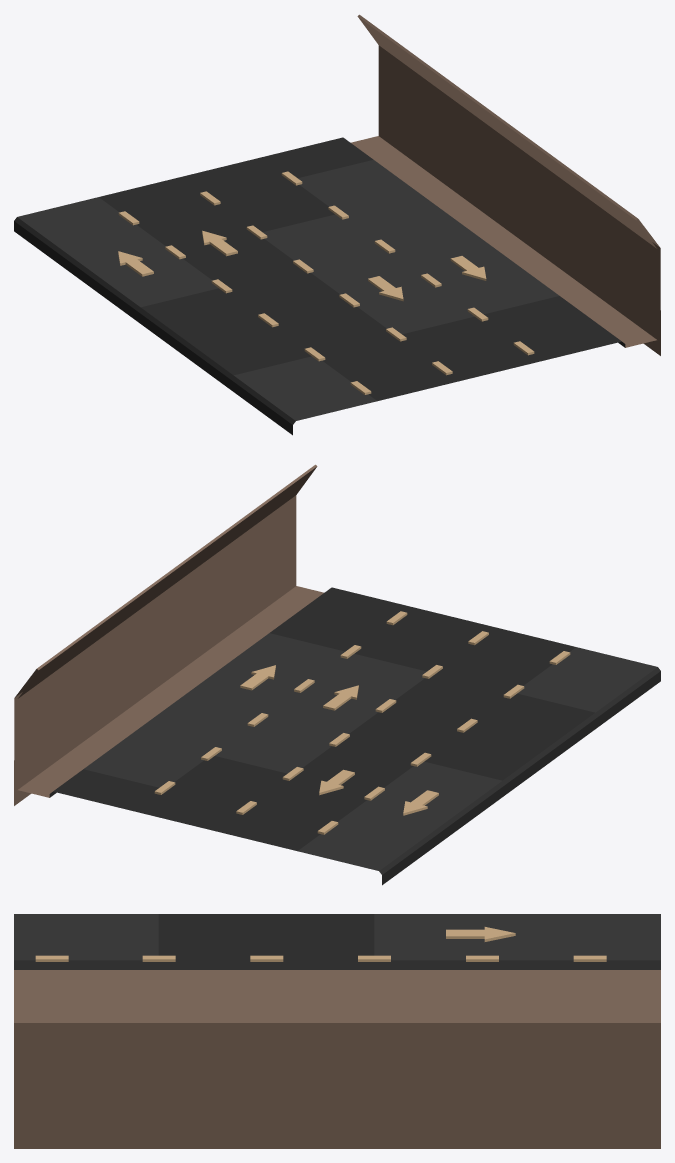
File: magistral.fbx
3 renders of one model, top to bottom at view 1: azimuth 30°, elevation 25°; view 2: azimuth 150°, elevation 25°; view 3: azimuth 270°, elevation 25°, orthographic. The views are drawn at different scales.
Parts seen in each view (by area): view 1: Cylinder.081; view 2: Cylinder.081; view 3: Cylinder.081.
Part boxes in pixels (x1,y1,x2,y2): Cylinder.081: (14, 14, 660, 435); Cylinder.081: (14, 464, 660, 885); Cylinder.081: (14, 914, 660, 1148).
Size of the model in its own units: 261 by 97.16 by 343.
